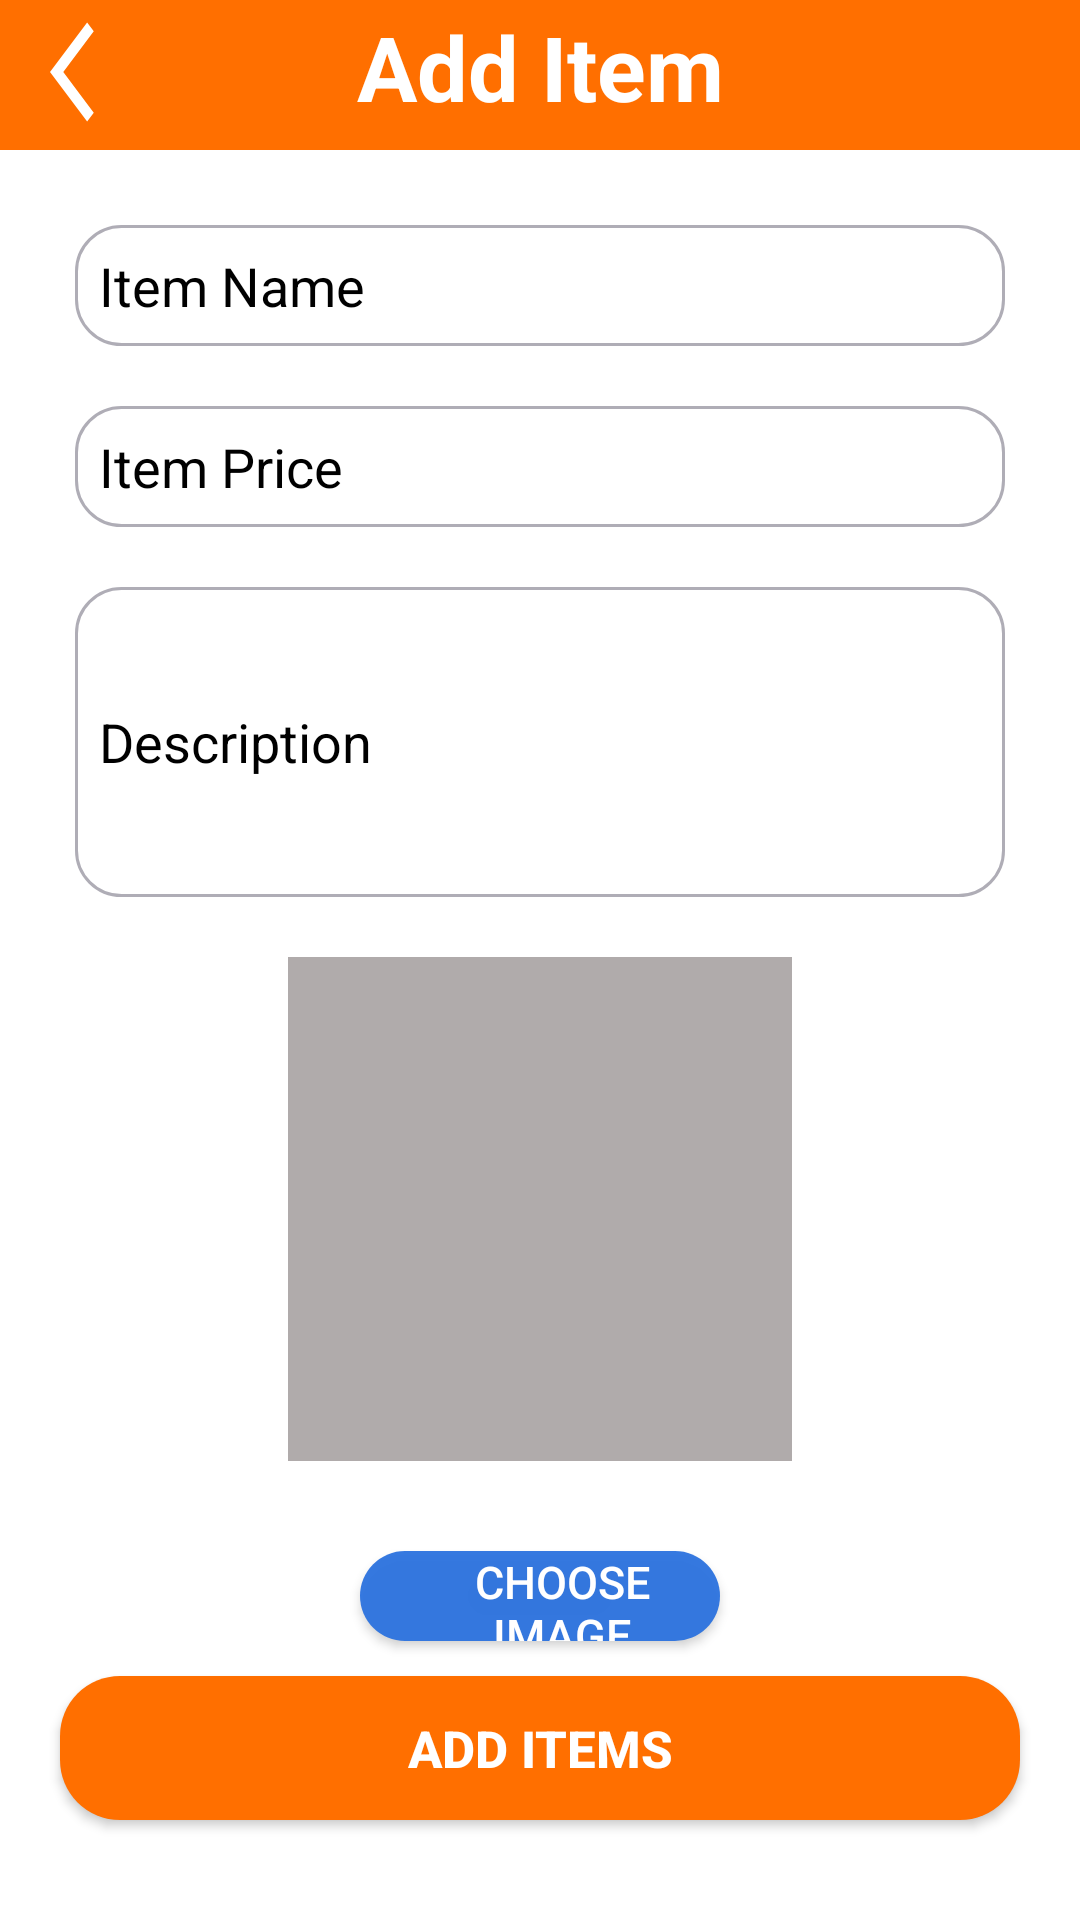

Icons on this 1080px×1920px Android screen, each with the point to tap as (x,y):
arrow back: (72,72)
